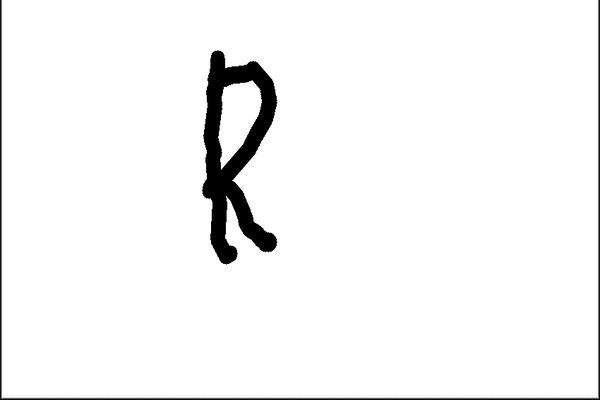R: (189, 42, 291, 270)
